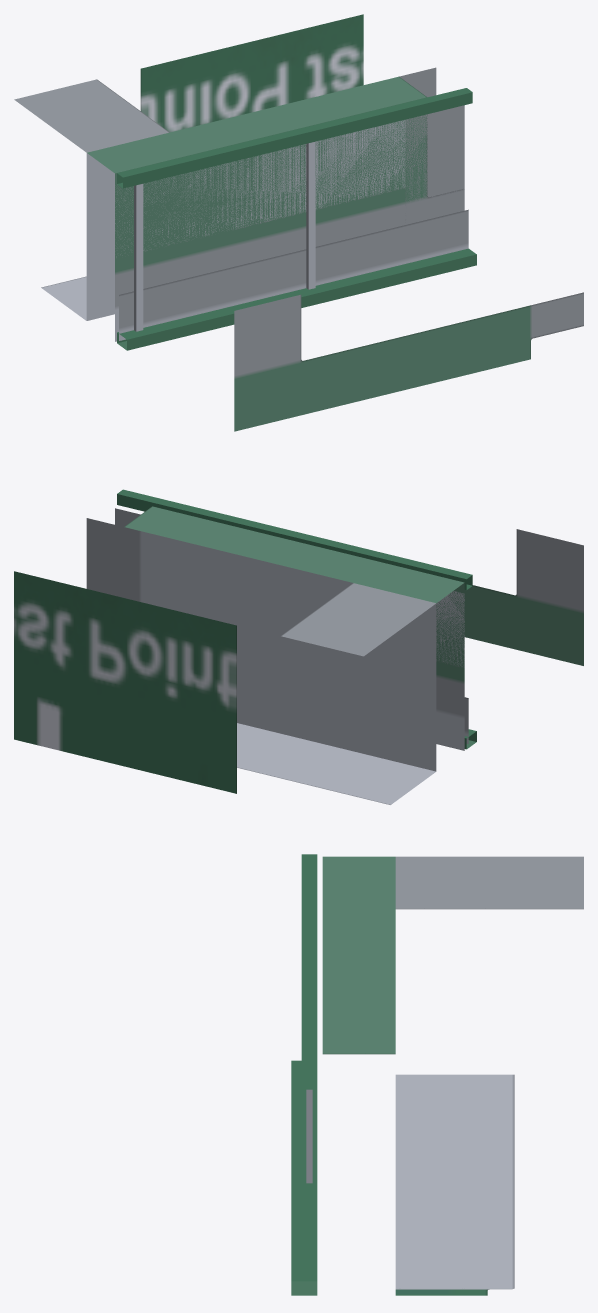
File: section-1.obj
3 views of the same model, one above another, from view 1: azimuth 30°, elevation 25°; view 2: azimuth 150°, elevation 25°; view 3: azimuth 270°, elevation 25° (orthographic). The views are drawn at different scales.
Size of the model in its own units: 1 by 0.4766 by 1.09.
